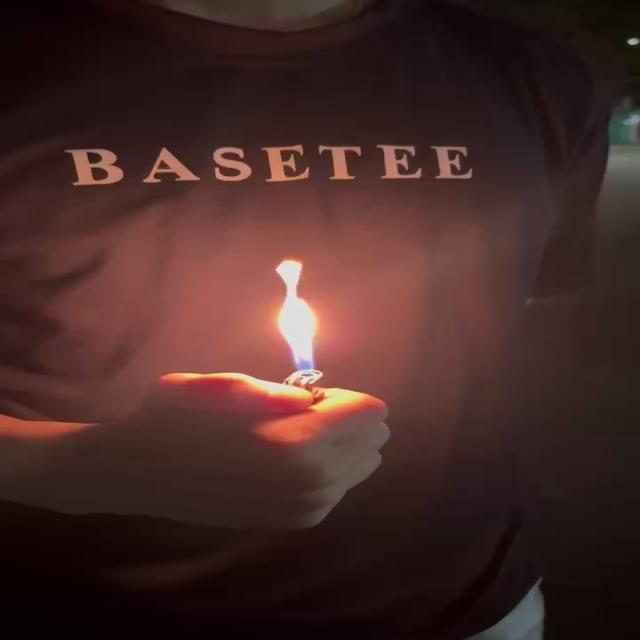Fire: (268, 257, 329, 379)
